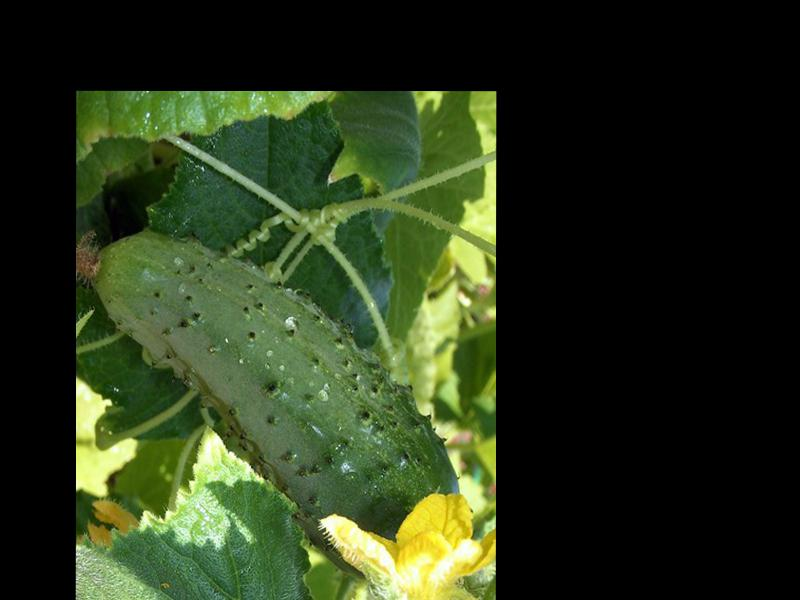Cucumber: (76, 230, 459, 580)
